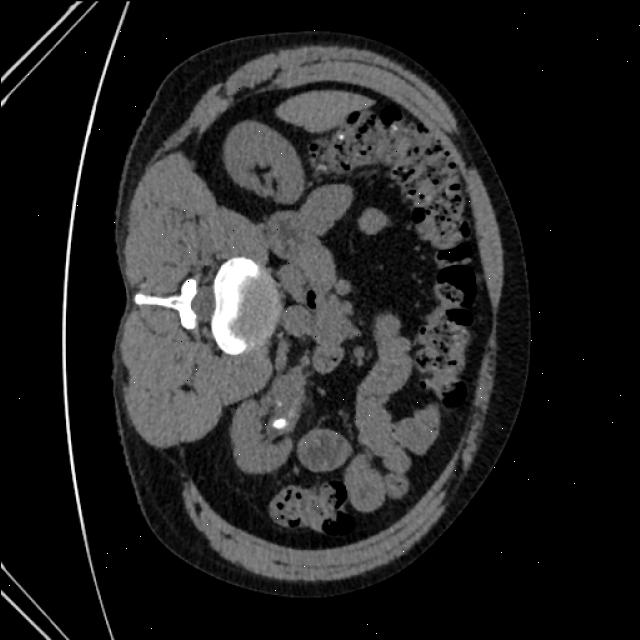kidneystone: (272, 419, 285, 429)
